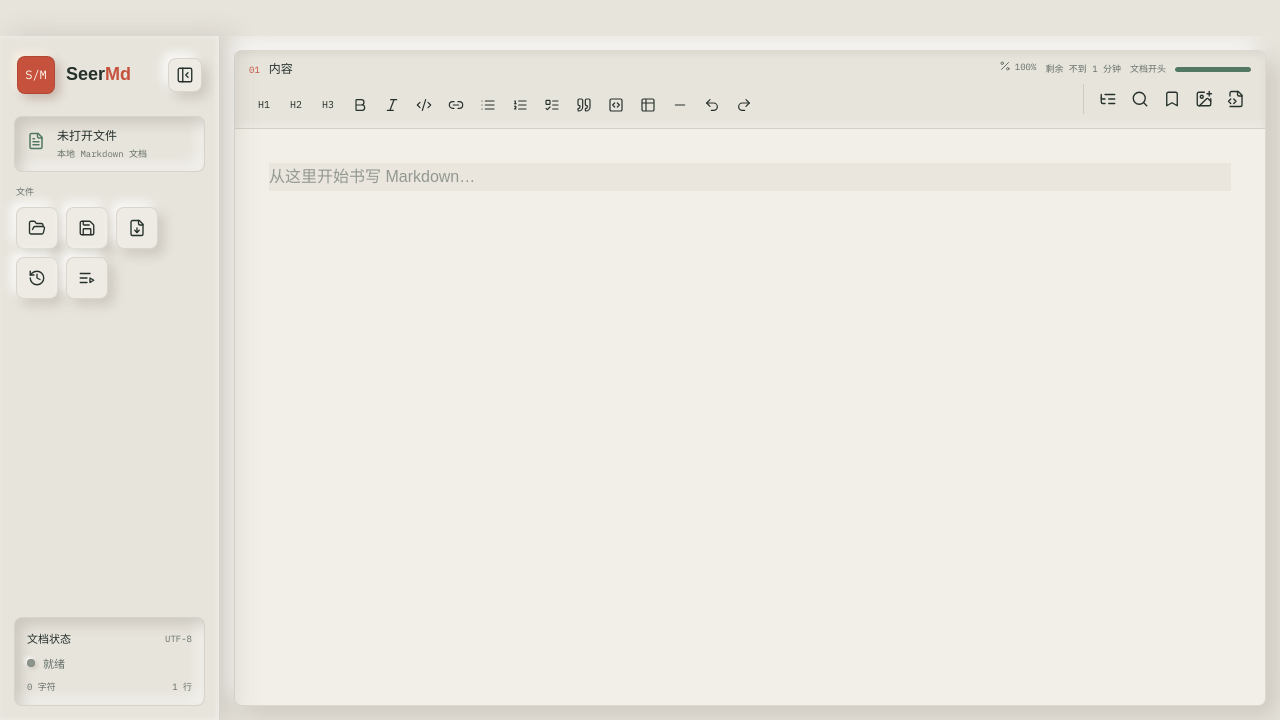
Test case: App writing and reading tools › adds and deletes persistent bookmarks and annotations
Click the button named "打开 Markdown 文件": (37, 228) x1=16 y1=207 x2=58 y2=249
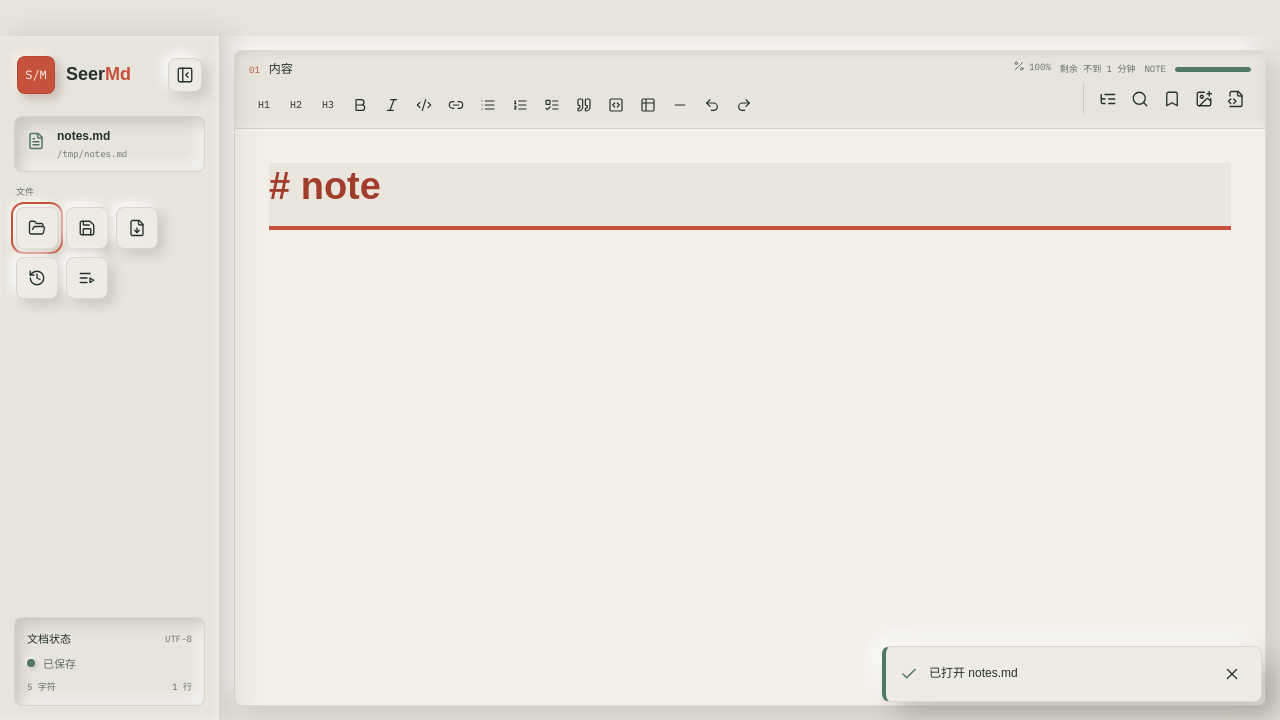
Click the button named "书签和批注": (1172, 99) x1=1157 y1=84 x2=1187 y2=114
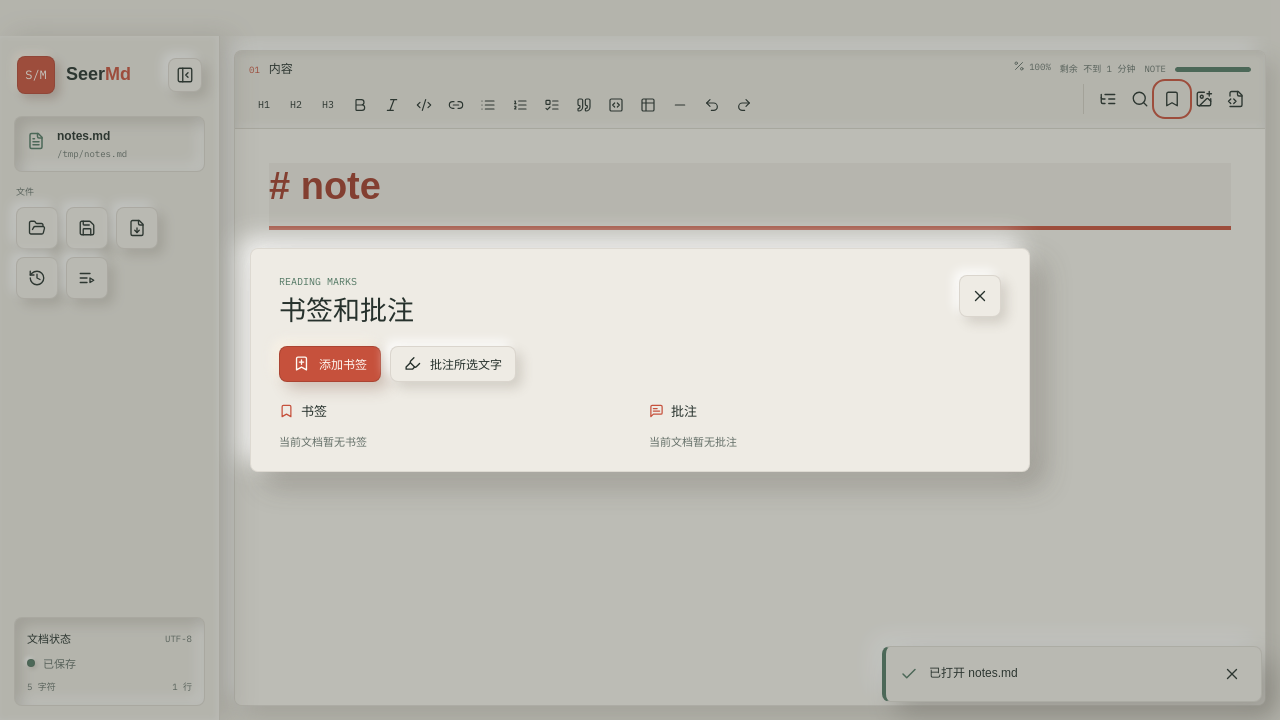
Click the button "添加书签": (330, 364) x1=279 y1=346 x2=381 y2=382
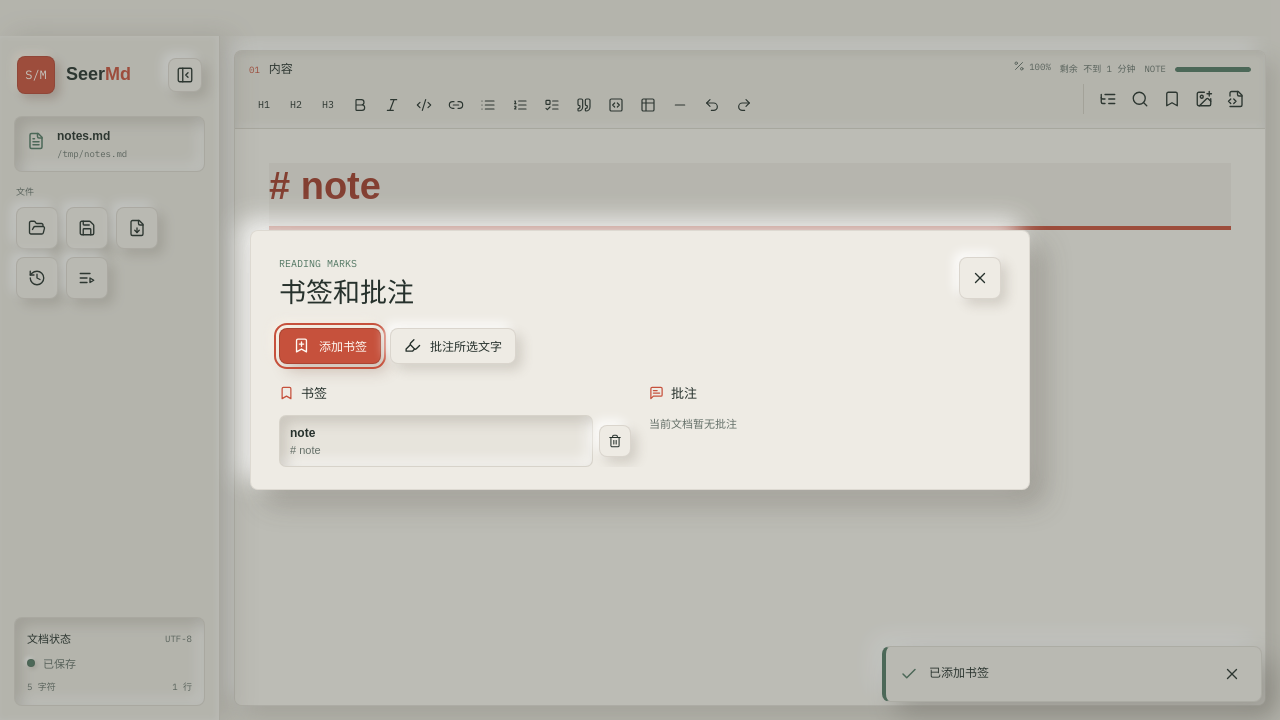
Now the text "notes.md" is shown, box x1=57 y1=129 x2=110 y2=143
Click the button named "删除书签": (615, 441) x1=599 y1=425 x2=631 y2=457
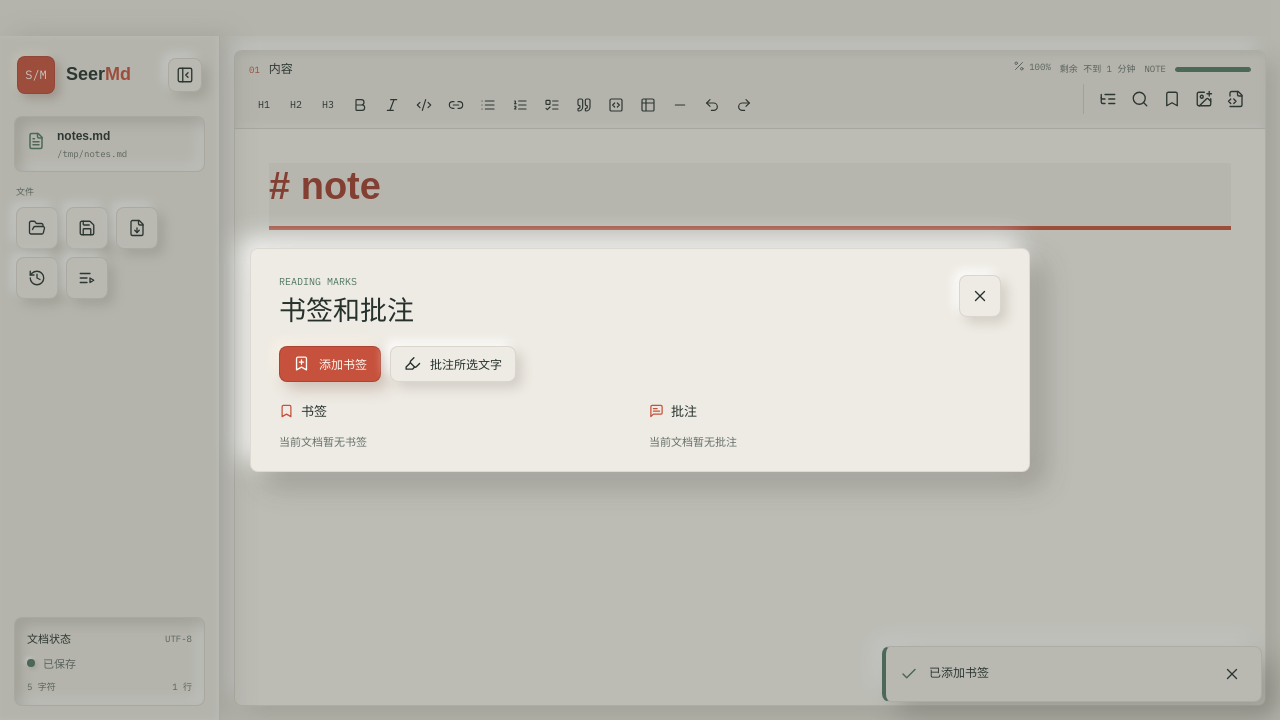
Now the text "当前文档暂无书签" is shown, box x1=279 y1=436 x2=367 y2=448
